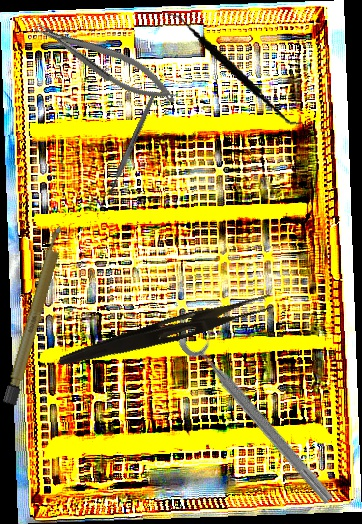Dressing Forceps: (57, 285, 275, 378)
Fixation Ring: (175, 317, 348, 509)
Needle Holder: (29, 7, 183, 116)
Scalpel Handle: (2, 222, 68, 408), (106, 91, 158, 197)
Spatula Surgical: (151, 10, 318, 127)
